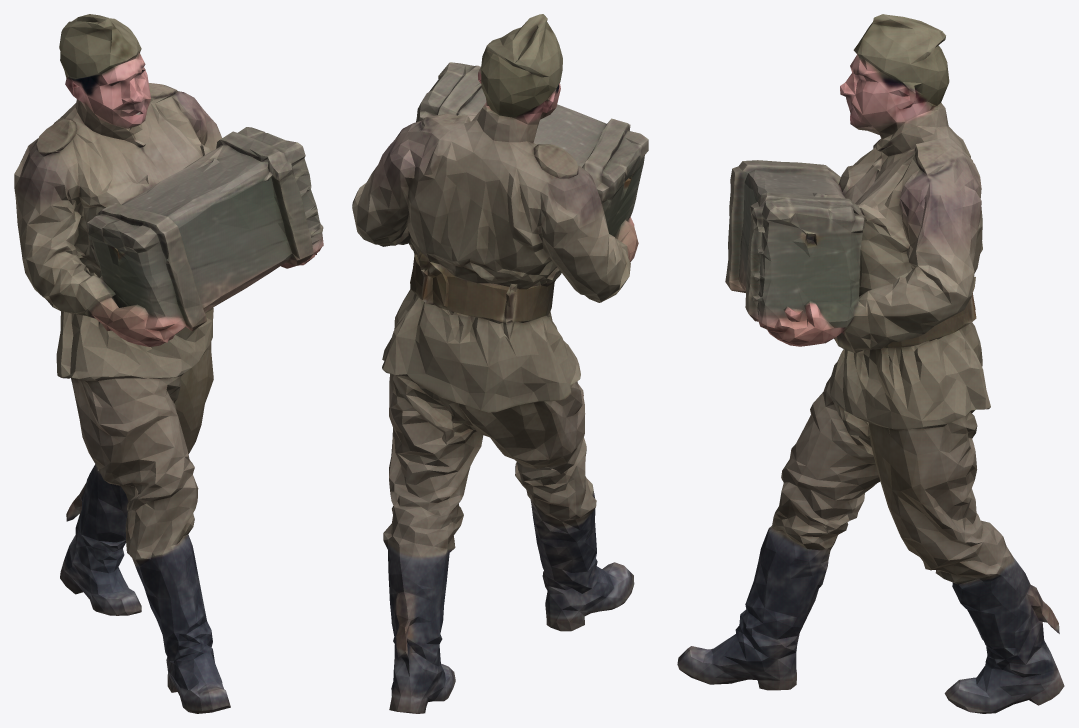
File: walk_su_crate_a.obj
3 renders of one model, left to right at view 1: azimuth 30°, elevation 25°; view 2: azimuth 150°, elevation 25°; view 3: azimuth 270°, elevation 25°, orthographic. The views are drawn at different scales.
Visible parts, largest first — view 1: walk_su_crate_a; view 2: walk_su_crate_a; view 3: walk_su_crate_a.
Boxes of the visible parts, x1,y1,x2,y2 form: walk_su_crate_a: (14,14,323,713); walk_su_crate_a: (352,14,648,713); walk_su_crate_a: (677,14,1064,713).
Bounding box in the file's own units: 0.7236 × 1.8 × 0.9543.
1 material, 1 textured.
